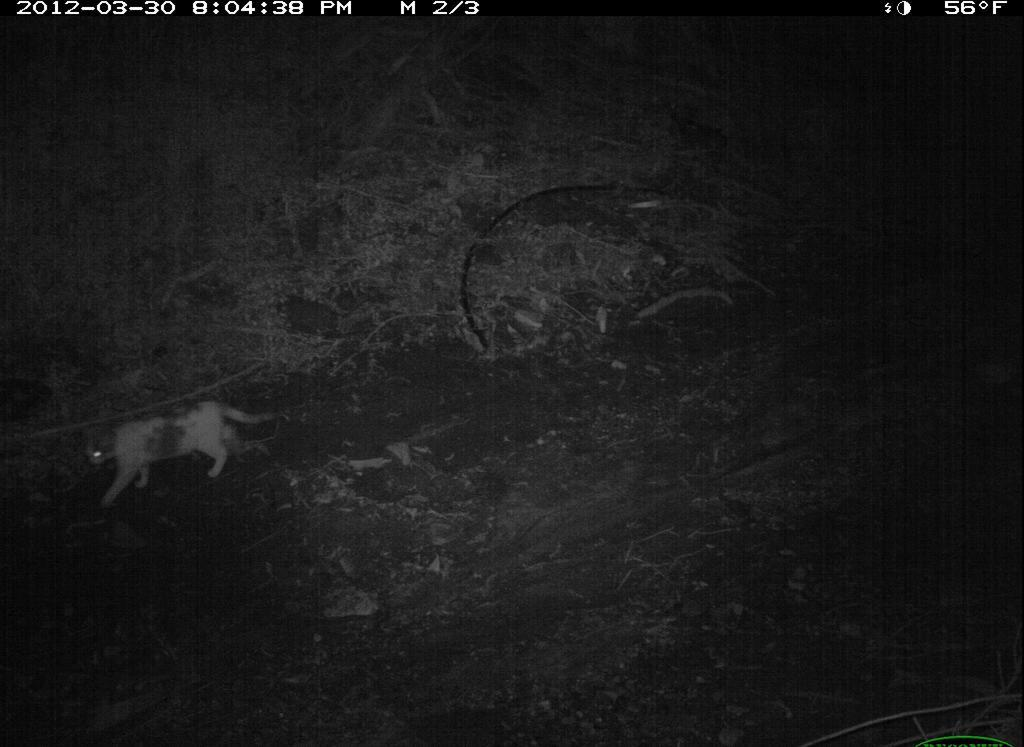cat: (58, 390, 297, 521)
